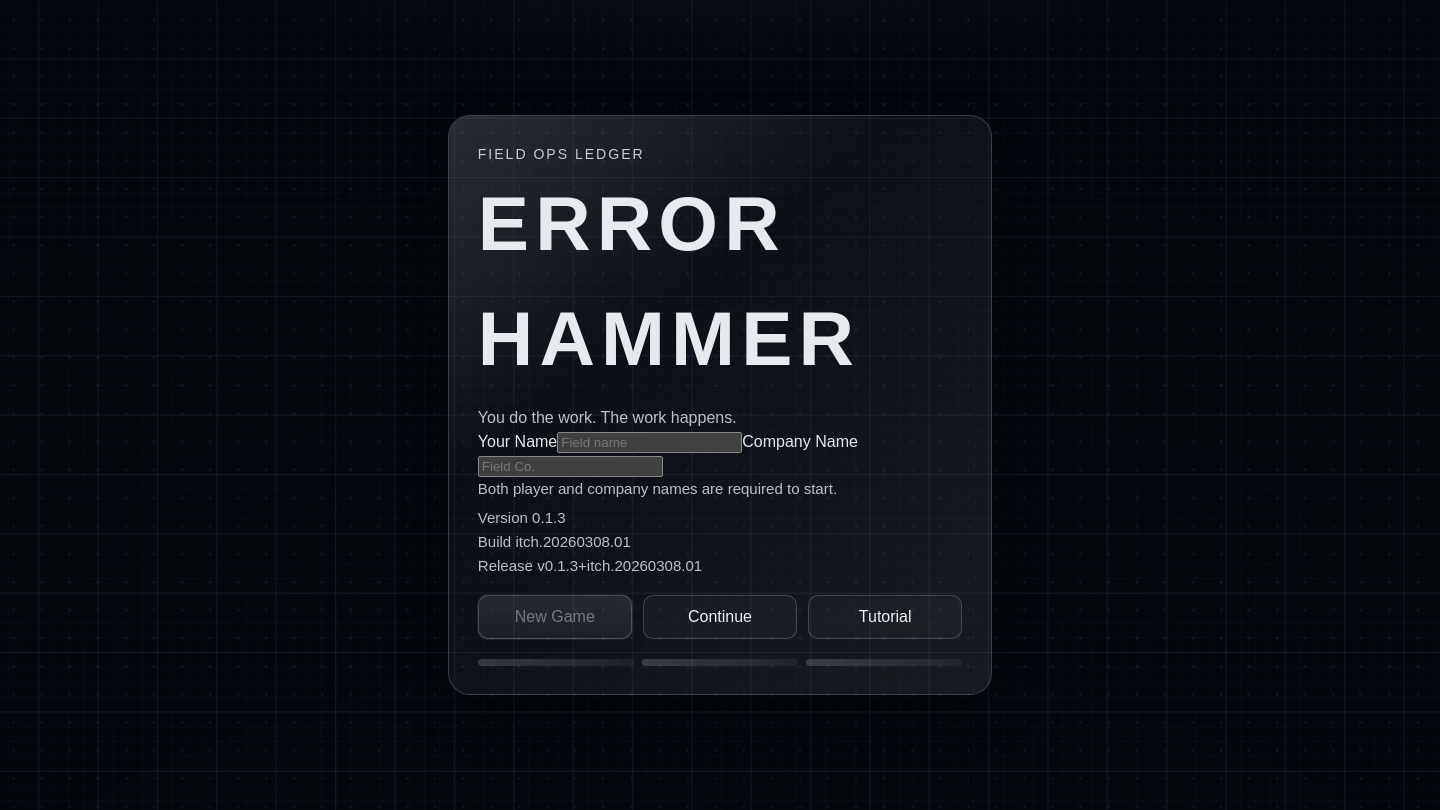
Test: compact shell ui › EH-TW-250: title tutorial current-save mode uses existing continue-missing notice path
(page scrolled)
Click the button "Tutorial" at (885, 617), box [808, 595, 962, 639]
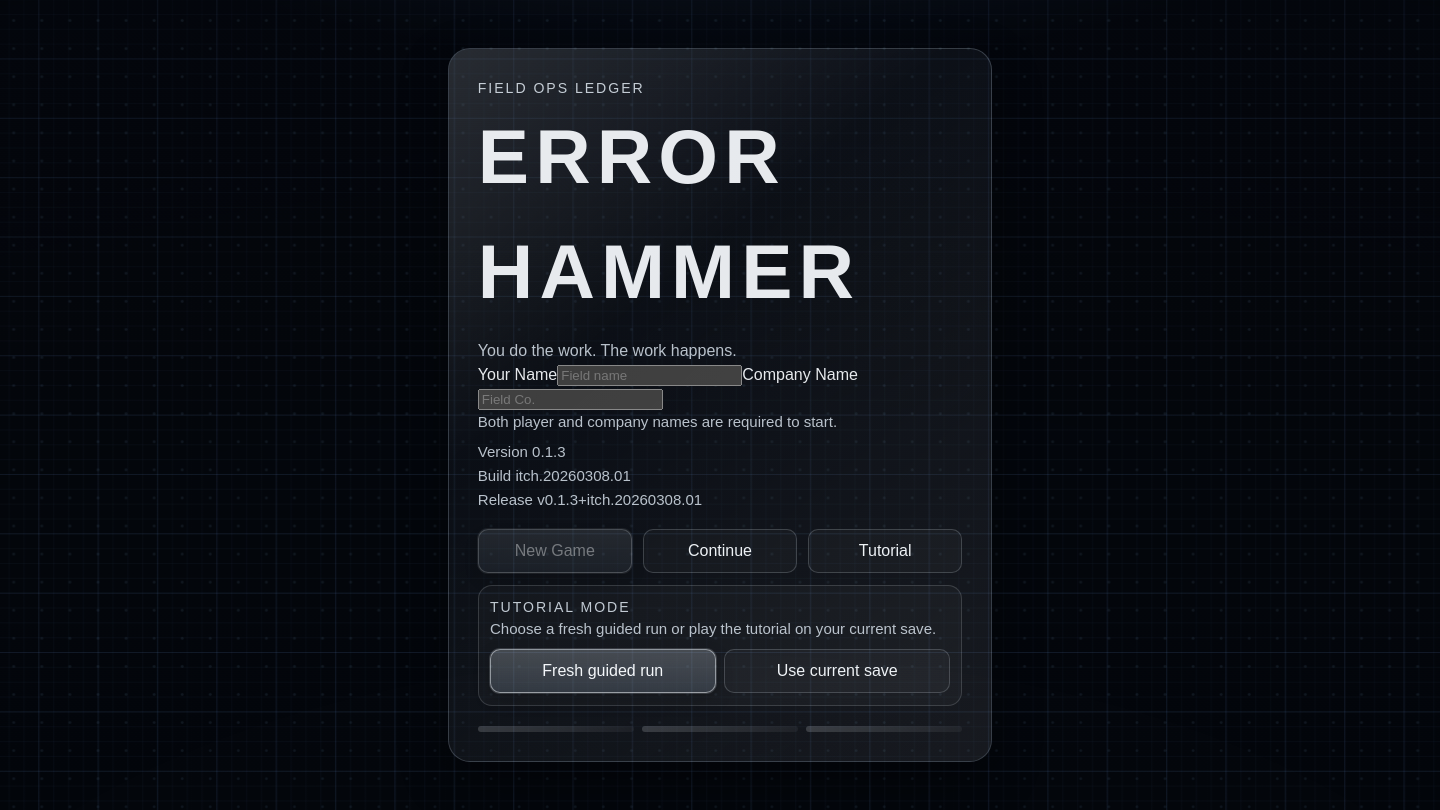
Click the button "Use current save" at (837, 671), box [724, 649, 950, 693]
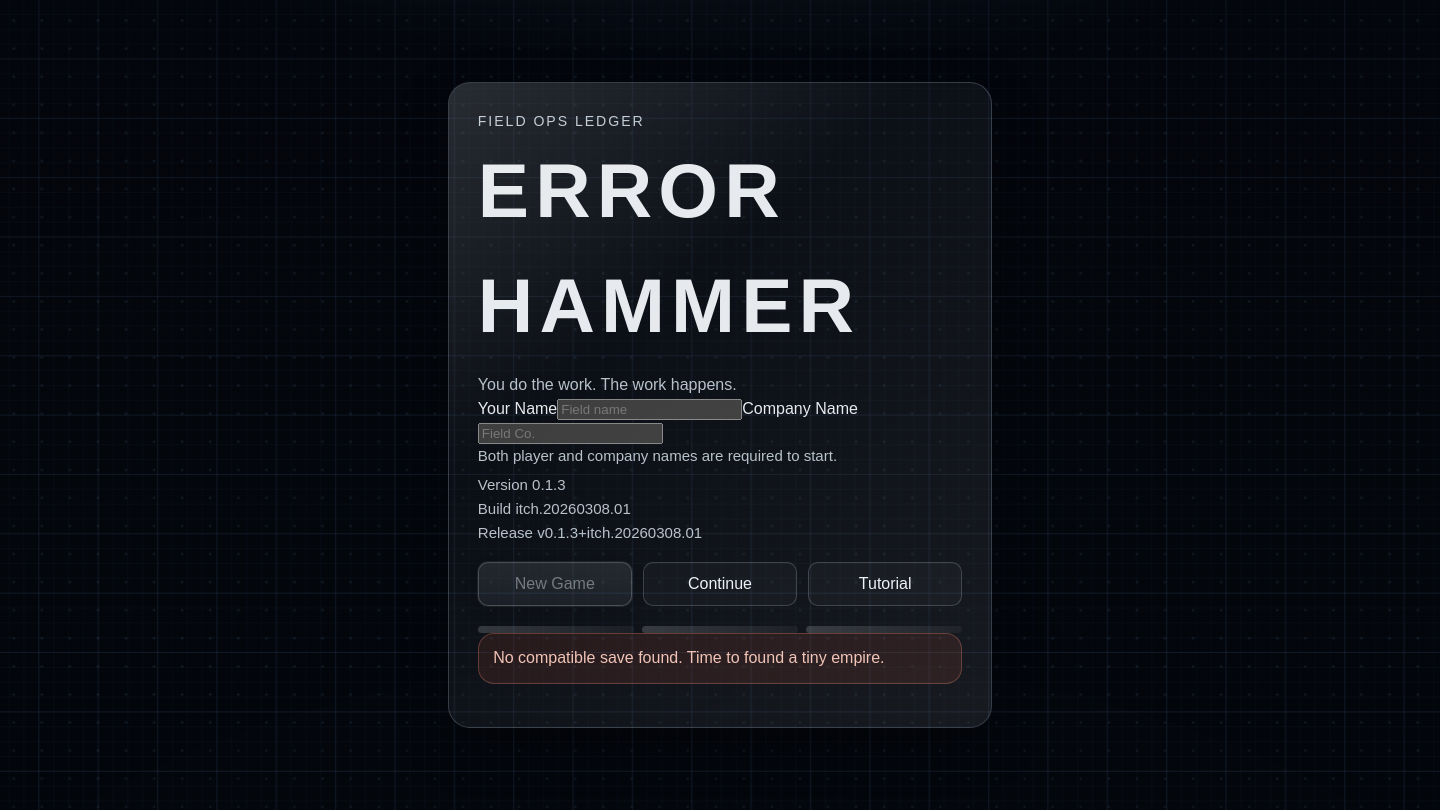
Check: the text "No compatible save found. Time to found a tiny empire." is shown, box [478, 632, 962, 684]
